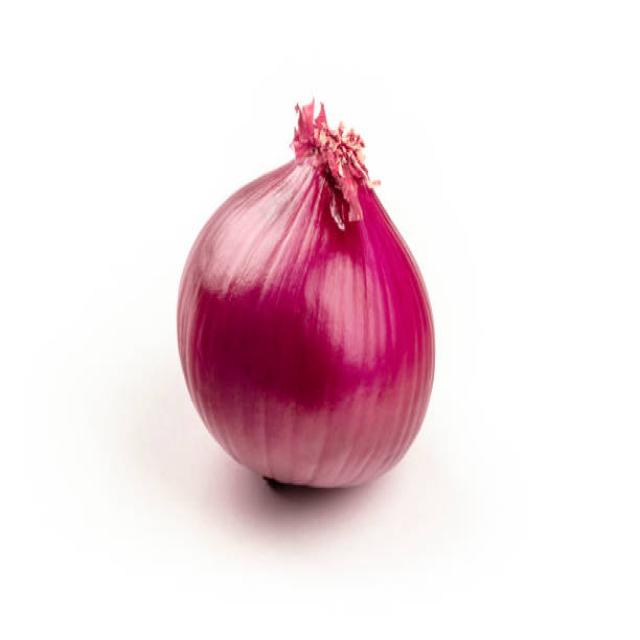onion: (176, 119, 438, 502)
